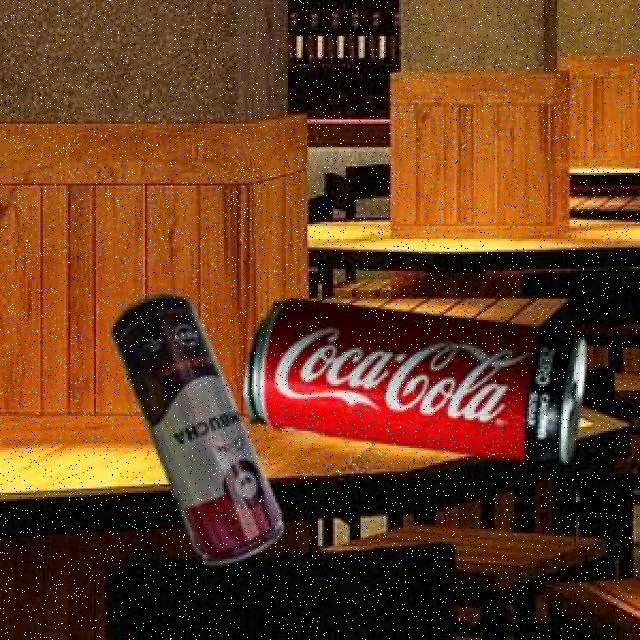Metal: (245, 299, 587, 461), (111, 293, 284, 565)
